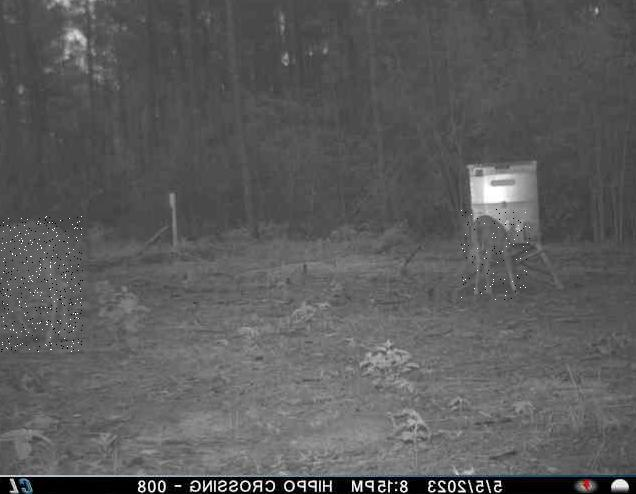Deer: (0, 216, 83, 352), (460, 210, 529, 301)
